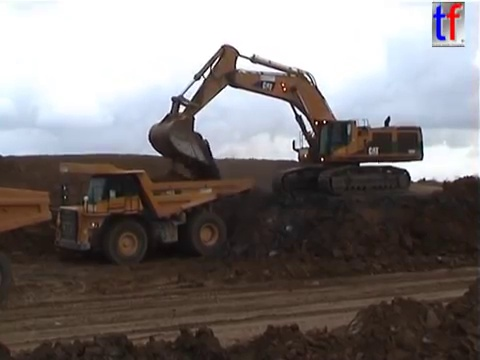excavator: (145, 42, 427, 201)
truck: (52, 160, 257, 266), (1, 182, 53, 302)
